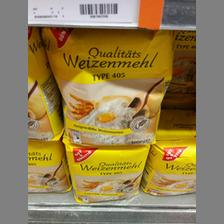Mehl: (42, 25, 170, 142), (60, 136, 148, 204), (140, 132, 194, 196)
